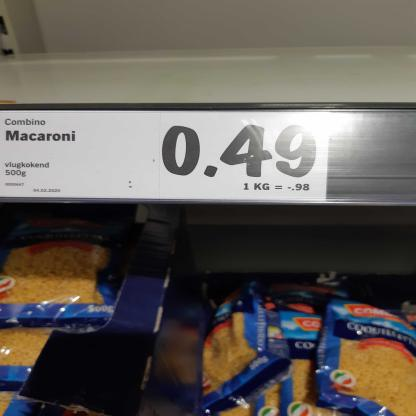prtg: (1, 111, 332, 202)
